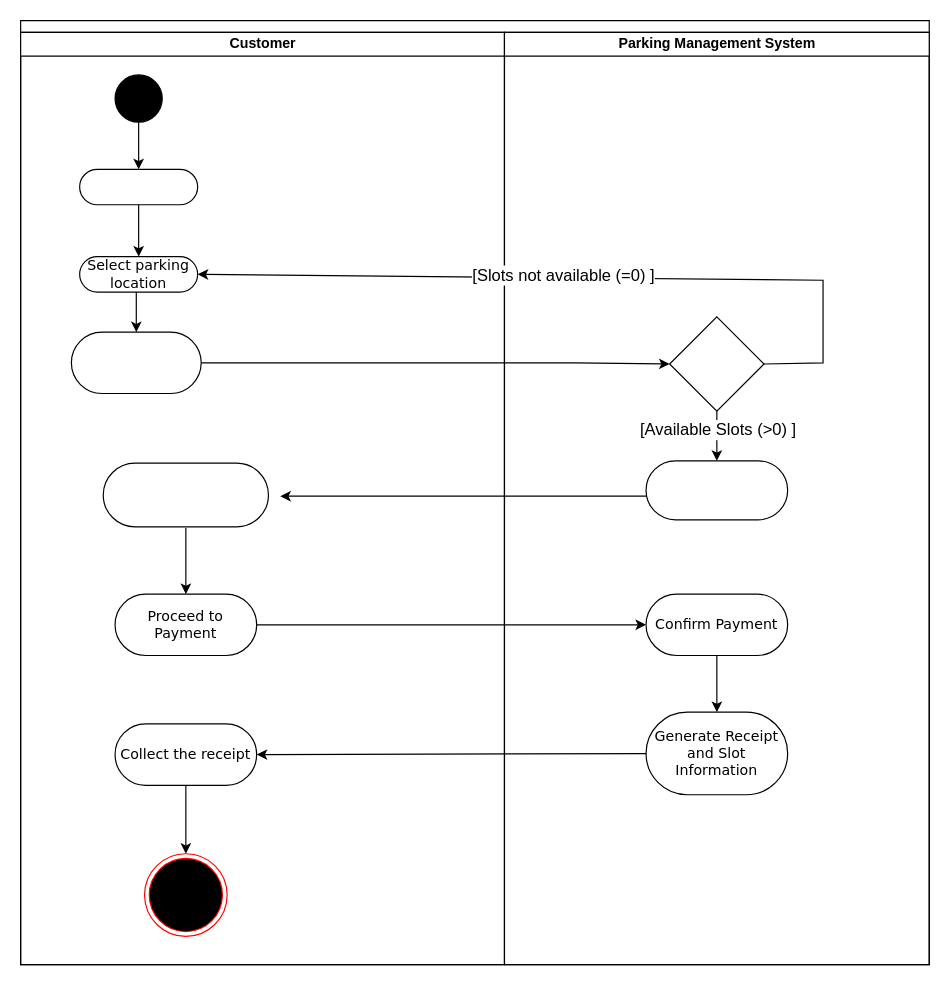
Some shapes in this 950 by 985 pixel diagram are drawn without their labels. Here are the shapes that lost their labels. From the top down, the centre of each, then its label:
At (138,186): "Login".
At (135,362): "Request for a parking spots".
At (185,494): "Select a spot".
At (716,490): "Display Slots".
